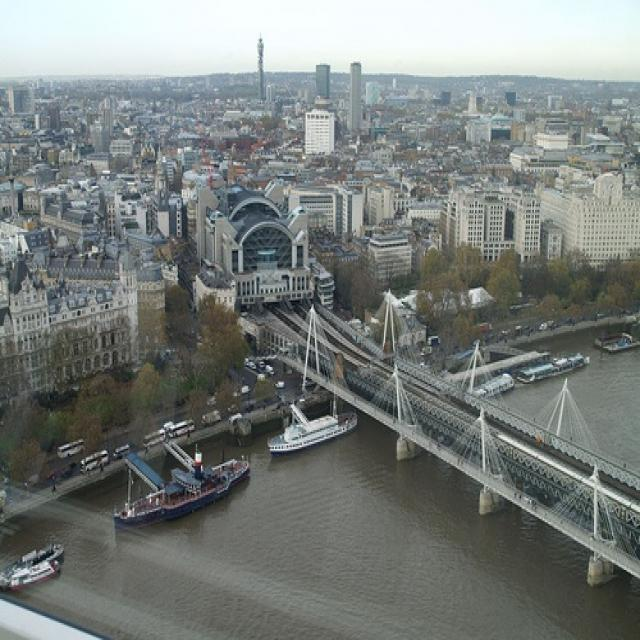bus: (74, 449, 106, 469), (132, 428, 166, 444), (54, 440, 84, 456), (167, 421, 194, 437)
